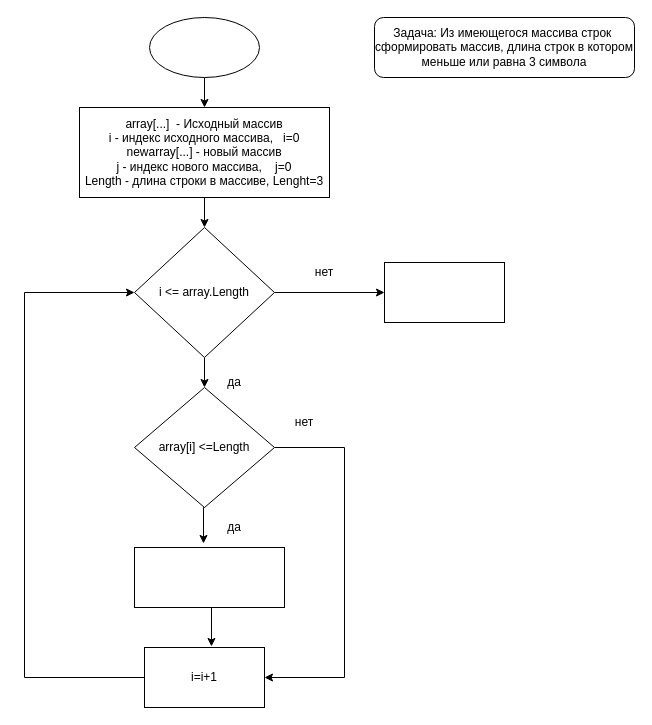
Image size: 652x725. Some labels were removed from this diagram. The shapes that lost their labels are listed below. From the top down, each one's box as (x1, y1, x2, y2) in pixels, then its label:
(148, 16, 260, 78): Начало
(384, 262, 504, 322): print newarray array[j]
(134, 546, 284, 608): newarray[j] = array[i] j=j+1
